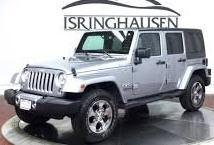SUV: (6, 31, 212, 143)
